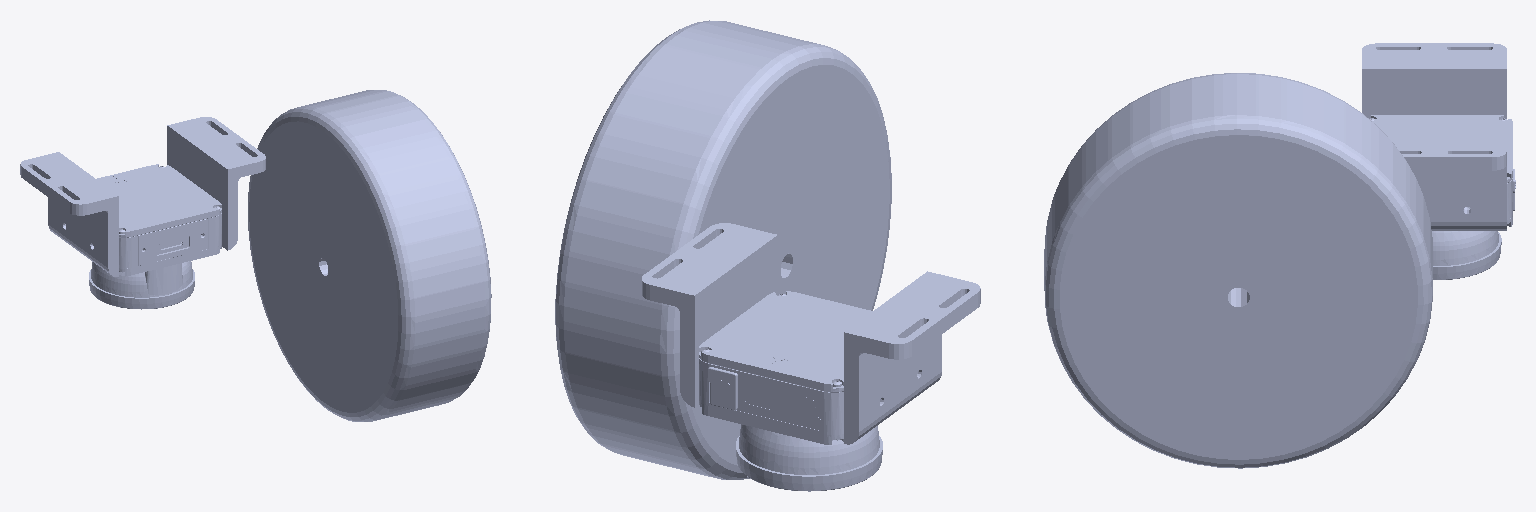
robot.urdf — mobile_base_assembly rigrig størrelse hjul:
<?xml version="1.0" encoding="utf-8"?>
<!-- This URDF was automatically created by SolidWorks to URDF Exporter! Originally created by [author] ([email redacted]) 
     Commit Version: 1.6.0-4-g7f85cfe  Build Version: 1.6.7995.38578
     For more information, please see http://wiki.ros.org/sw_urdf_exporter -->
<robot
  name="mobile_base_assembly rigrig størrelse hjul">
  <link
    name="base_link">
    <inertial>
      <origin
        xyz="-0.0024750006390785 -0.185259399389036 -0.00158375241138109"
        rpy="0 0 0" />
      <mass
        value="7.12750649390085" />
      <inertia
        ixx="0.0457606455387283"
        ixy="2.77322922062716E-06"
        ixz="3.27411439344334E-05"
        iyy="0.0218108431317149"
        iyz="0.000878135124195841"
        izz="0.0543254750685279" />
    </inertial>
    <visual>
      <origin
        xyz="0 0 0"
        rpy="0 0 0" />
      <geometry>
        <mesh
          filename="package://mobile_base_assembly rigrig størrelse hjul/meshes/base_link.STL" />
      </geometry>
      <material
        name="">
        <color
          rgba="0 0 0 1" />
      </material>
    </visual>
    <collision>
      <origin
        xyz="0 0 0"
        rpy="0 0 0" />
      <geometry>
        <mesh
          filename="package://mobile_base_assembly rigrig størrelse hjul/meshes/base_link.STL" />
      </geometry>
    </collision>
  </link>
  <link
    name="left_wheel">
    <inertial>
      <origin
        xyz="4.16333634234434E-17 5.55111512312578E-17 0.0425"
        rpy="0 0 0" />
      <mass
        value="4.46342151734513" />
      <inertia
        ixx="0.0214375253295535"
        ixy="-9.27083006375532E-19"
        ixz="-7.97975622392489E-20"
        iyy="0.0214375253295535"
        iyz="-1.43995601033231E-20"
        izz="0.0375707416693319" />
    </inertial>
    <visual>
      <origin
        xyz="0 0 0"
        rpy="0 0 0" />
      <geometry>
        <mesh
          filename="package://mobile_base_assembly rigrig størrelse hjul/meshes/left_wheel.STL" />
      </geometry>
      <material
        name="">
        <color
          rgba="0.792156862745098 0.819607843137255 0.933333333333333 1" />
      </material>
    </visual>
    <collision>
      <origin
        xyz="0 0 0"
        rpy="0 0 0" />
      <geometry>
        <mesh
          filename="package://mobile_base_assembly rigrig størrelse hjul/meshes/left_wheel.STL" />
      </geometry>
    </collision>
  </link>
  <joint
    name="left_wheel_joint"
    type="continuous">
    <origin
      xyz="-0.1795 0 0"
      rpy="1.5708 0 1.5708" />
    <parent
      link="base_link" />
    <child
      link="left_wheel" />
    <axis
      xyz="0 0 1" />
  </joint>
  <link
    name="right_wheel">
    <inertial>
      <origin
        xyz="2.77555756156289E-17 0 -0.0425"
        rpy="0 0 0" />
      <mass
        value="4.46342151734513" />
      <inertia
        ixx="0.0214375253295535"
        ixy="-2.9042607713123E-19"
        ixz="-5.26009852170224E-19"
        iyy="0.0214375253295535"
        iyz="5.9105590148048E-20"
        izz="0.0375707416693319" />
    </inertial>
    <visual>
      <origin
        xyz="0 0 0"
        rpy="0 0 0" />
      <geometry>
        <mesh
          filename="package://mobile_base_assembly rigrig størrelse hjul/meshes/right_wheel.STL" />
      </geometry>
      <material
        name="">
        <color
          rgba="0.792156862745098 0.819607843137255 0.933333333333333 1" />
      </material>
    </visual>
    <collision>
      <origin
        xyz="0 0 0"
        rpy="0 0 0" />
      <geometry>
        <mesh
          filename="package://mobile_base_assembly rigrig størrelse hjul/meshes/right_wheel.STL" />
      </geometry>
    </collision>
  </link>
  <joint
    name="right_wheel_joint"
    type="continuous">
    <origin
      xyz="0.1745 0 0"
      rpy="1.5708 0 1.5708" />
    <parent
      link="base_link" />
    <child
      link="right_wheel" />
    <axis
      xyz="0 0 1" />
  </joint>
  <link
    name="camera">
    <inertial>
      <origin
        xyz="-0.00631546894314867 -0.00352733962572555 -0.04107698948983"
        rpy="0 0 0" />
      <mass
        value="0.434157647540387" />
      <inertia
        ixx="0.000312761614793385"
        ixy="-3.35388002099955E-08"
        ixz="-1.13015682548285E-05"
        iyy="0.00052582752815235"
        iyz="-1.47821574419058E-05"
        izz="0.000675087917784274" />
    </inertial>
    <visual>
      <origin
        xyz="0 0 0"
        rpy="0 0 0" />
      <geometry>
        <mesh
          filename="package://mobile_base_assembly rigrig størrelse hjul/meshes/camera.STL" />
      </geometry>
      <material
        name="">
        <color
          rgba="0.792156862745098 0.819607843137255 0.933333333333333 1" />
      </material>
    </visual>
    <collision>
      <origin
        xyz="0 0 0"
        rpy="0 0 0" />
      <geometry>
        <mesh
          filename="package://mobile_base_assembly rigrig størrelse hjul/meshes/camera.STL" />
      </geometry>
    </collision>
  </link>
  <joint
    name="camera_joint"
    type="fixed">
    <origin
      xyz="-0.0022996 0.27022 0.04328"
      rpy="2.3562 0 -3.1415" />
    <parent
      link="base_link" />
    <child
      link="camera" />
    <axis
      xyz="0 0 0" />
  </joint>
  <link
    name="laser">
    <inertial>
      <origin
        xyz="-3.24297391453392E-05 0.0304099645493233 -0.00053784996415665"
        rpy="0 0 0" />
      <mass
        value="0.77572976548165" />
      <inertia
        ixx="0.000937718836199801"
        ixy="3.8008877922495E-07"
        ixz="1.32636836288947E-06"
        iyy="0.000971728129760081"
        iyz="-1.59543715912E-06"
        izz="0.000813219708306808" />
    </inertial>
    <visual>
      <origin
        xyz="0 0 0"
        rpy="0 0 0" />
      <geometry>
        <mesh
          filename="package://mobile_base_assembly rigrig størrelse hjul/meshes/laser.STL" />
      </geometry>
      <material
        name="">
        <color
          rgba="0.792156862745098 0.819607843137255 0.933333333333333 1" />
      </material>
    </visual>
    <collision>
      <origin
        xyz="0 0 0"
        rpy="0 0 0" />
      <geometry>
        <mesh
          filename="package://mobile_base_assembly rigrig størrelse hjul/meshes/laser.STL" />
      </geometry>
    </collision>
  </link>
  <joint
    name="laser_joint"
    type="fixed">
    <origin
      xyz="-0.0024966 0.13302 -0.025212"
      rpy="1.5708 0 3.1416" />
    <parent
      link="base_link" />
    <child
      link="laser" />
    <axis
      xyz="0 0 0" />
  </joint>
</robot>

--- Facts derived from the render (not from the file) ---
3 views of the same robot in one strip: view 1: azimuth 30°, elevation 25°; view 2: azimuth 150°, elevation 25°; view 3: azimuth 270°, elevation 25° (orthographic).
Model mobile_base_assembly rigrig størrelse hjul with 5 links and 4 joints (2 continuous, 2 fixed), rooted at base_link, posed all joints at 0.
Links seen in each view (by area): view 1: right_wheel, laser; view 2: right_wheel, laser; view 3: right_wheel, laser.
Link boxes in pixels (x1,y1,x2,y2): right_wheel: (248,90,491,421); laser: (20,117,265,309); right_wheel: (555,20,891,479); laser: (642,223,980,491); right_wheel: (1044,73,1432,468); laser: (1362,43,1515,279).
Bounding box of the posed robot: 0.2673 × 0.3152 × 0.26 m (x, y, z).
2 mesh visuals loaded from 5 distinct referenced files (2 binary STL); not drawn: 3 (reference not matched to a file when rendering).